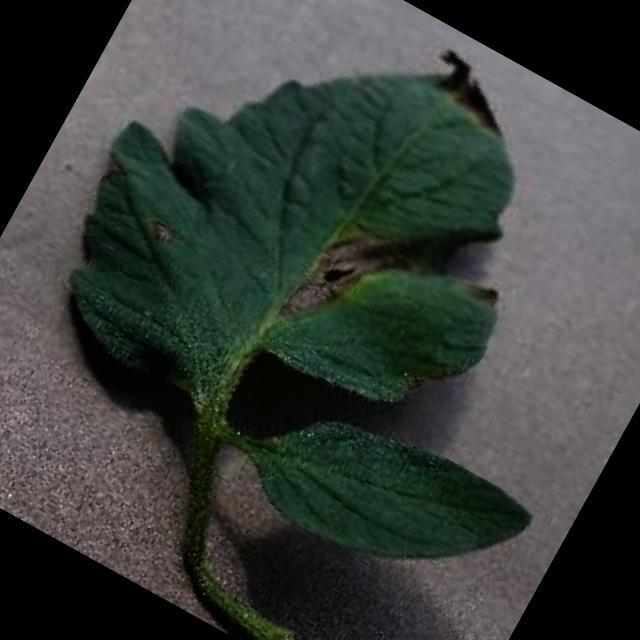Tomato Early blight leaf: (13, 0, 599, 520)
